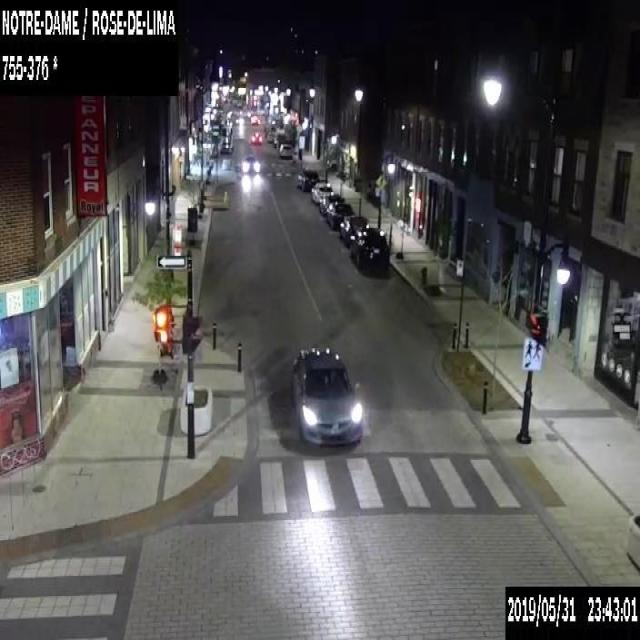vehicle: (290, 348, 363, 447), (349, 227, 389, 272), (340, 215, 369, 245), (326, 202, 354, 228), (318, 192, 344, 215), (310, 181, 332, 203), (297, 169, 318, 189), (242, 156, 259, 172), (279, 143, 292, 158), (218, 137, 230, 153), (250, 132, 262, 144), (250, 115, 259, 123), (266, 131, 273, 141)
